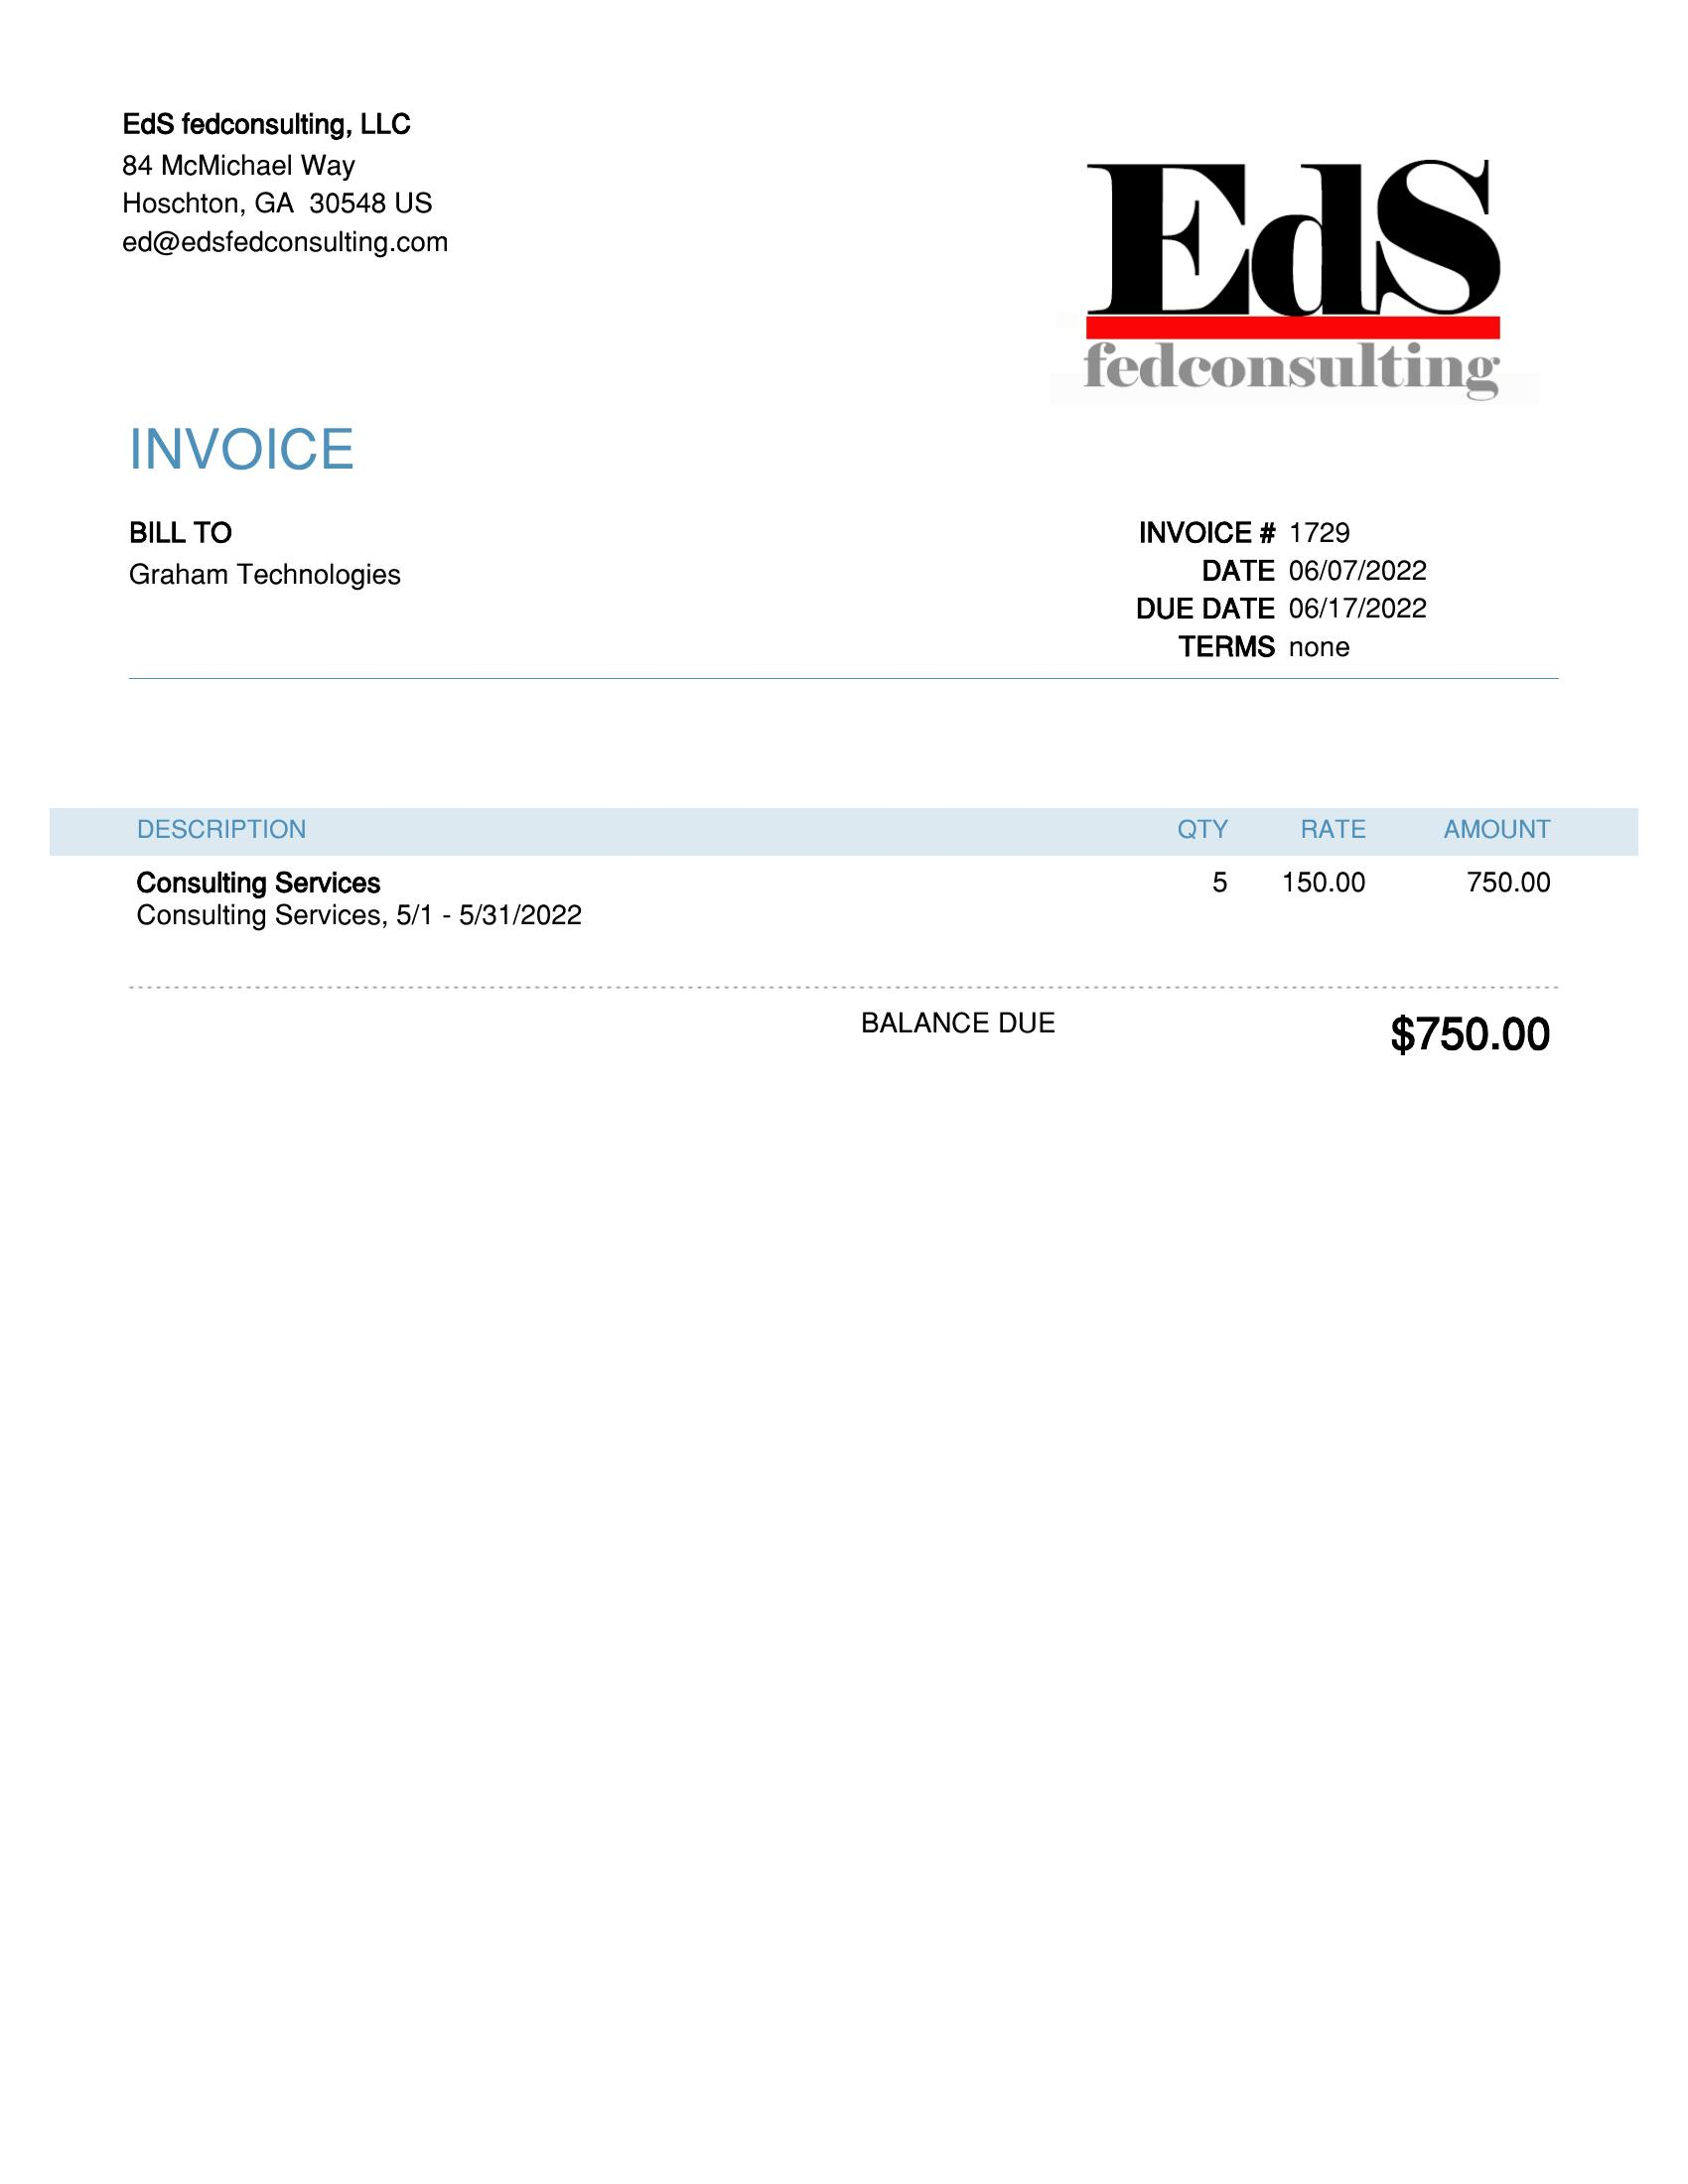table: (37, 787, 1645, 994)
